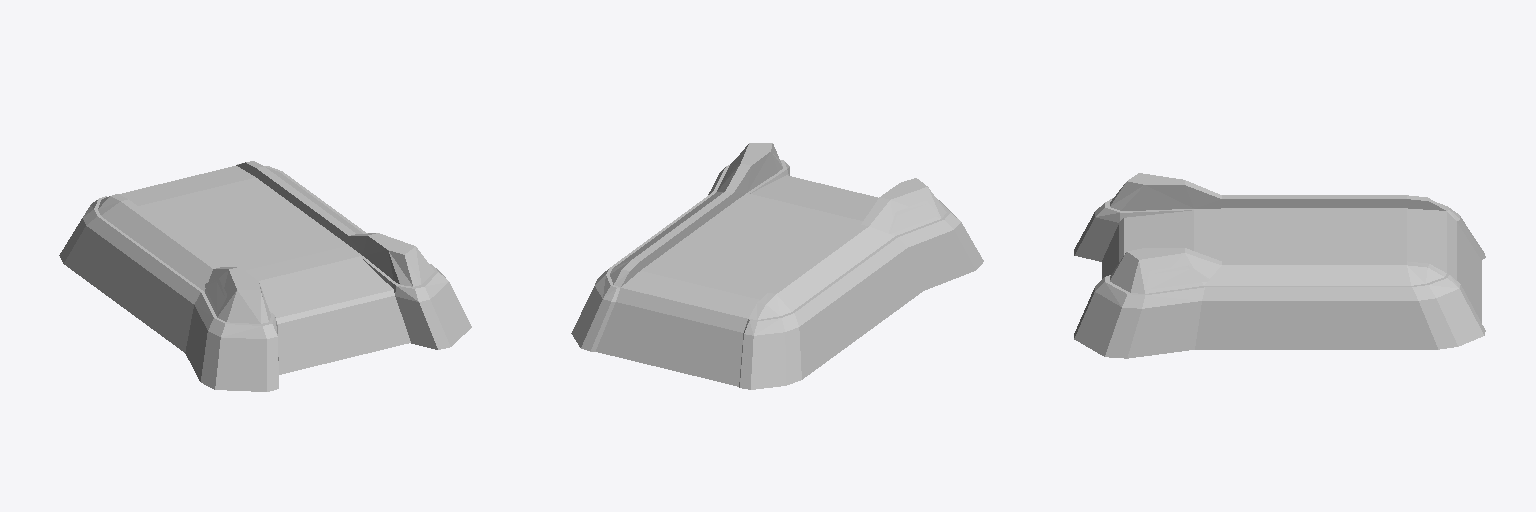
Rendered from Dash Panel.obj.
The picture shows the model from 3 angles: view 1: azimuth 30°, elevation 25°; view 2: azimuth 150°, elevation 25°; view 3: azimuth 270°, elevation 25°; orthographic projection.
Visible parts, largest first — view 1: rdmobj00_rdmobj00.004, rdmobj01_rdmobj01.005; view 2: rdmobj00_rdmobj00.004, rdmobj01_rdmobj01.005, rdmobj02_rdmobj02.005; view 3: rdmobj00_rdmobj00.004, rdmobj01_rdmobj01.005, rdmobj02_rdmobj02.005.
Part boxes in pixels (x1,y1,x2,y2): rdmobj00_rdmobj00.004: (59, 161, 471, 391); rdmobj01_rdmobj01.005: (120, 166, 361, 280); rdmobj00_rdmobj00.004: (571, 143, 983, 389); rdmobj01_rdmobj01.005: (616, 193, 862, 332); rdmobj02_rdmobj02.005: (718, 160, 936, 233); rdmobj00_rdmobj00.004: (1074, 173, 1485, 358); rdmobj01_rdmobj01.005: (1194, 208, 1456, 280); rdmobj02_rdmobj02.005: (1149, 269, 1207, 289).
Size of the model in its own units: 72.97 by 20.95 by 98.67.